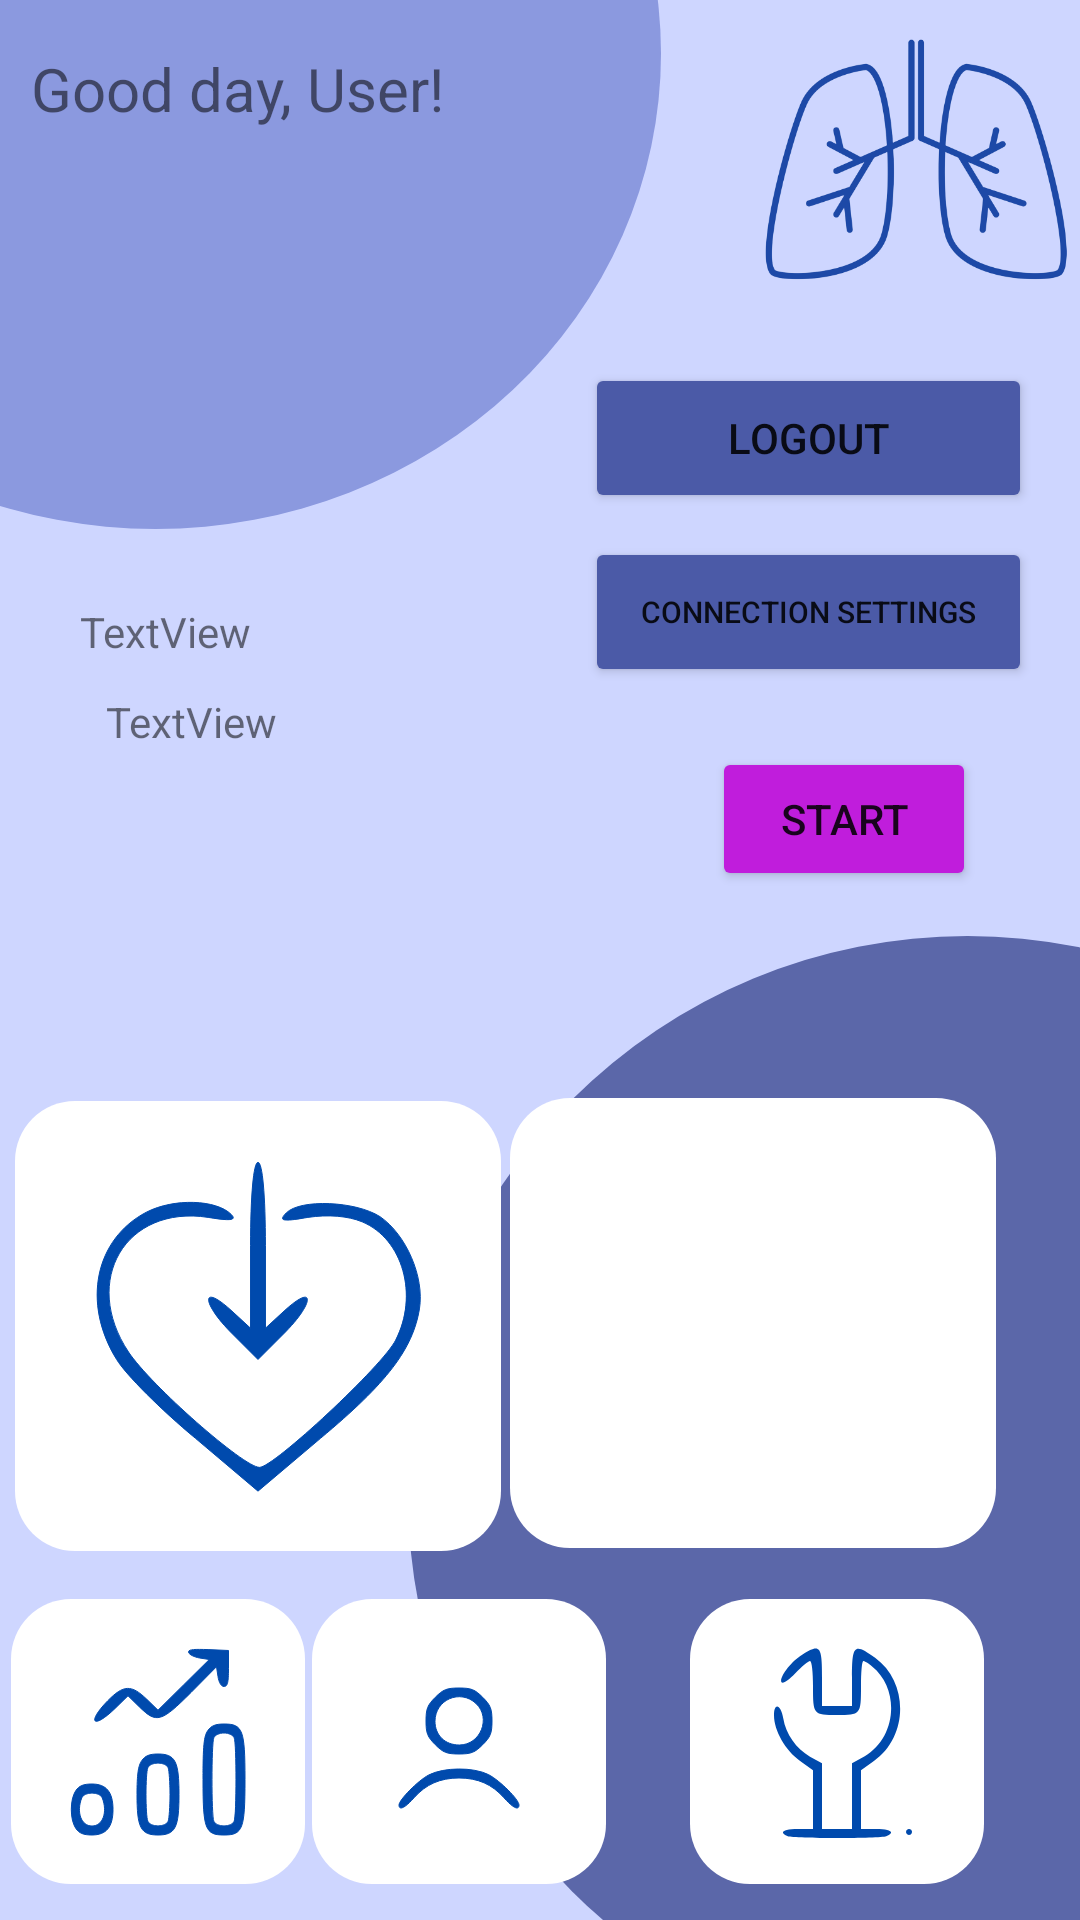

Where icons sit on this 1080 × 1920 app screen, as (x1, y1, x2, y2):
health: (96, 1162, 421, 1492)
settings: (774, 1648, 912, 1838)
userprofile: (398, 1687, 520, 1809)
